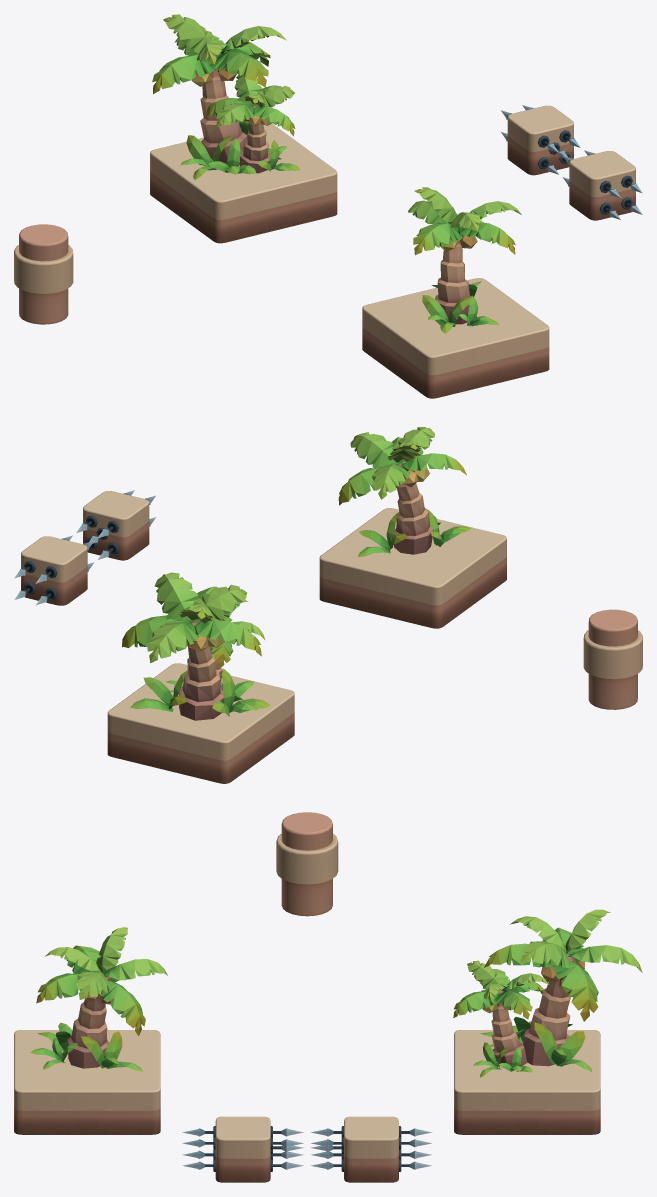
The model's file is Props.fbx.
3 views of the same model, one above another, from view 1: azimuth 30°, elevation 25°; view 2: azimuth 150°, elevation 25°; view 3: azimuth 270°, elevation 25° (orthographic). The views are drawn at different scales.
Visible parts, largest first — view 1: Box02, yezishu01, Box02 (1), yezishu02, Box01 (×2), Cylinder-2; view 2: Box02, Box02 (1), yezishu01, yezishu02, Box01 (×2), Cylinder-2; view 3: yezishu01, Box02, Box02 (1), yezishu02, Box01 (×2), Cylinder-2.
Part boxes in pixels (box(x1,y1,x2,y2)): Box02: box(362, 278, 549, 398); yezishu01: box(152, 14, 300, 180); Box02 (1): box(150, 123, 337, 243); yezishu02: box(408, 187, 521, 333); Box01 (×2): box(507, 105, 635, 220); Cylinder-2: box(14, 224, 73, 324); Box02: box(319, 508, 506, 628); Box02 (1): box(107, 663, 294, 783); yezishu01: box(122, 572, 270, 720); yezishu02: box(338, 427, 471, 556); Box01 (×2): box(21, 491, 149, 605); Cylinder-2: box(583, 609, 642, 709); yezishu01: box(453, 909, 642, 1077); Box02: box(14, 1030, 160, 1134); Box02 (1): box(454, 1030, 600, 1134); yezishu02: box(30, 927, 167, 1071); Box01 (×2): box(215, 1116, 398, 1182); Cylinder-2: box(276, 812, 338, 916).
Bounding box in the file's own units: 37.69 × 10.64 × 34.31.
